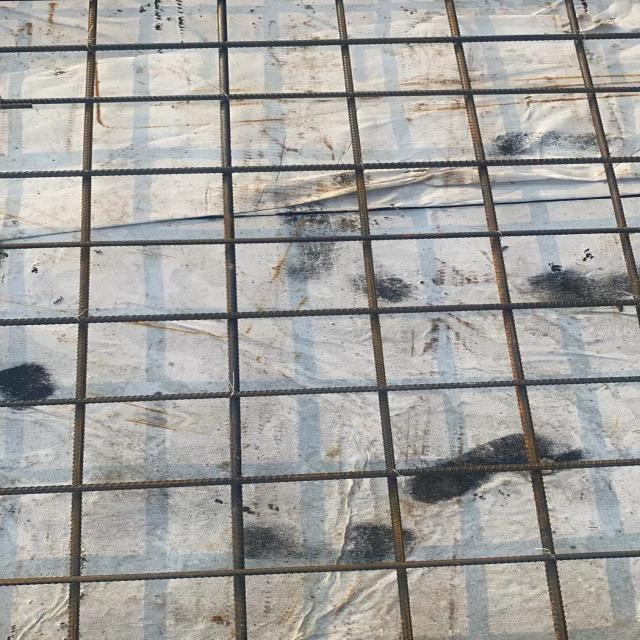ribbed bar: (442, 0, 569, 639), (331, 0, 415, 639), (0, 456, 639, 497), (0, 549, 639, 588), (561, 0, 639, 298), (212, 0, 246, 639), (0, 376, 639, 407), (65, 0, 96, 639), (0, 298, 639, 327), (0, 85, 639, 109), (0, 156, 639, 179), (0, 226, 639, 249), (0, 31, 639, 53)
